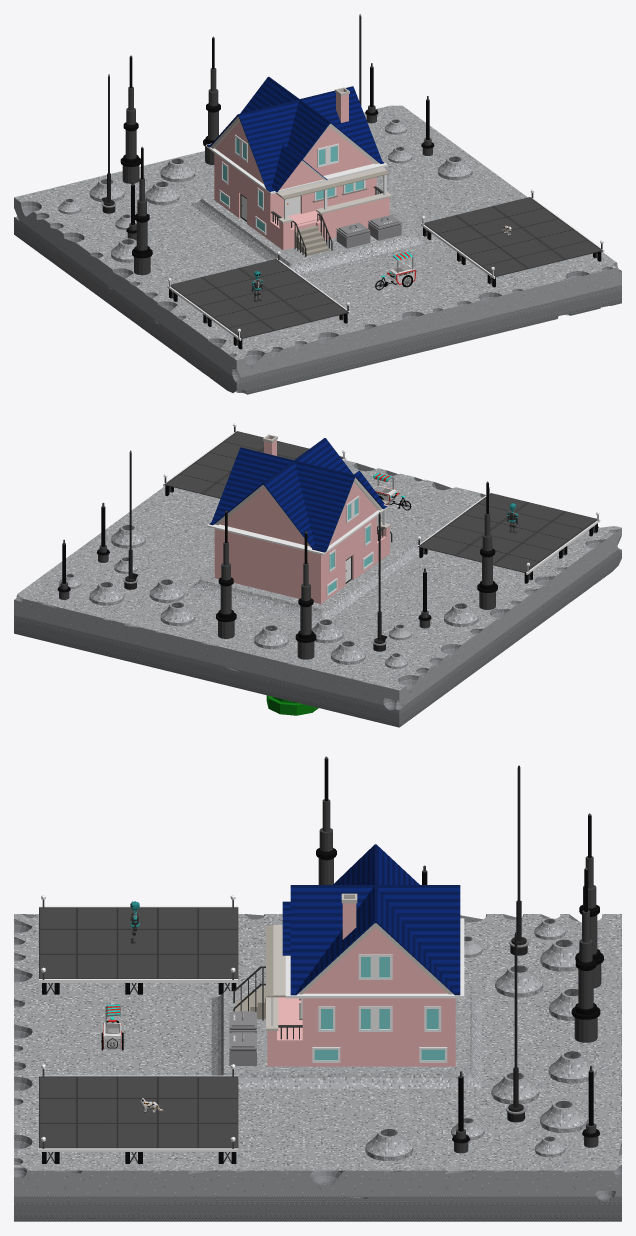
3 renders of one model, top to bottom at view 1: azimuth 30°, elevation 25°; view 2: azimuth 150°, elevation 25°; view 3: azimuth 270°, elevation 25°, orthographic. The views are drawn at different scales.
Visible parts, largest first — view 1: Cube.027, Cube.313, Cube.026, Cube.025, Cube.028, Cylinder.020, Cylinder.021, Cylinder.017, VEHICLES_SNOWBAL_BIKE, Cube.029, Cube.030, Cylinder.027 (+3 smaller); view 2: Cube.027, Cube.313, Cube.025, Cube.028, Cube.026, Cylinder.020, Cylinder.021, Cylinder.017, Cylinder.031, Cylinder.028, Cylinder.029, Cylinder.030 (+8 smaller); view 3: Cube.027, Cube.313, Cube.026, Cube.025, Cube.028, Cylinder.017, Cylinder.020, Cylinder.021, Cylinder.033, Cylinder.031, Cylinder.029, Cylinder.026 (+9 smaller).
Boxes of the visible parts, bbox=[...] form: Cube.027: bbox=[14, 105, 621, 394]; Cube.313: bbox=[205, 76, 392, 256]; Cube.026: bbox=[421, 189, 604, 287]; Cube.025: bbox=[167, 251, 350, 349]; Cube.028: bbox=[191, 195, 424, 274]; Cylinder.020: bbox=[120, 55, 140, 183]; Cylinder.021: bbox=[132, 146, 152, 275]; Cylinder.017: bbox=[203, 36, 220, 164]; VEHICLES_SNOWBAL_BIKE: bbox=[374, 252, 415, 290]; Cube.029: bbox=[336, 222, 370, 248]; Cube.030: bbox=[368, 215, 401, 240]; Cylinder.027: bbox=[160, 158, 195, 182]; Cube.027: bbox=[14, 460, 621, 727]; Cube.313: bbox=[206, 434, 392, 603]; Cube.025: bbox=[417, 485, 600, 583]; Cube.028: bbox=[190, 538, 419, 620]; Cube.026: bbox=[163, 423, 346, 498]; Cylinder.020: bbox=[295, 531, 316, 659]; Cylinder.021: bbox=[477, 481, 497, 609]; Cylinder.017: bbox=[216, 510, 236, 638]; Cylinder.031: bbox=[89, 581, 124, 605]; Cylinder.028: bbox=[331, 640, 365, 664]; Cylinder.029: bbox=[160, 601, 195, 626]; Cylinder.030: bbox=[149, 578, 184, 603]; Cube.027: bbox=[14, 914, 621, 1221]; Cube.313: bbox=[233, 844, 464, 1066]; Cube.026: bbox=[39, 1064, 238, 1163]; Cube.025: bbox=[39, 895, 238, 994]; Cube.028: bbox=[211, 991, 481, 1088]; Cylinder.017: bbox=[571, 867, 600, 1042]; Cylinder.020: bbox=[575, 813, 603, 988]; Cylinder.021: bbox=[316, 756, 336, 884]; Cylinder.033: bbox=[365, 1128, 413, 1160]; Cylinder.031: bbox=[540, 1100, 587, 1132]; Cylinder.029: bbox=[548, 1050, 596, 1083]; Cylinder.026: bbox=[495, 964, 543, 997].
Bounding box in the file's own units: 4000 × 2383 × 4000.
37 materials, 4 textured.
